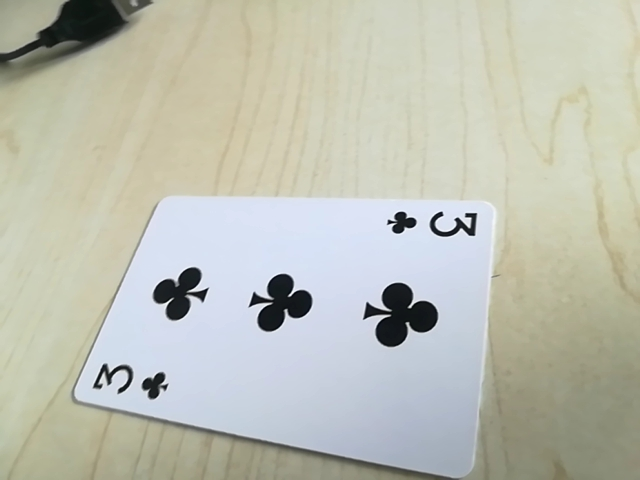mh 3: (84, 355, 176, 405), (381, 205, 482, 244)
